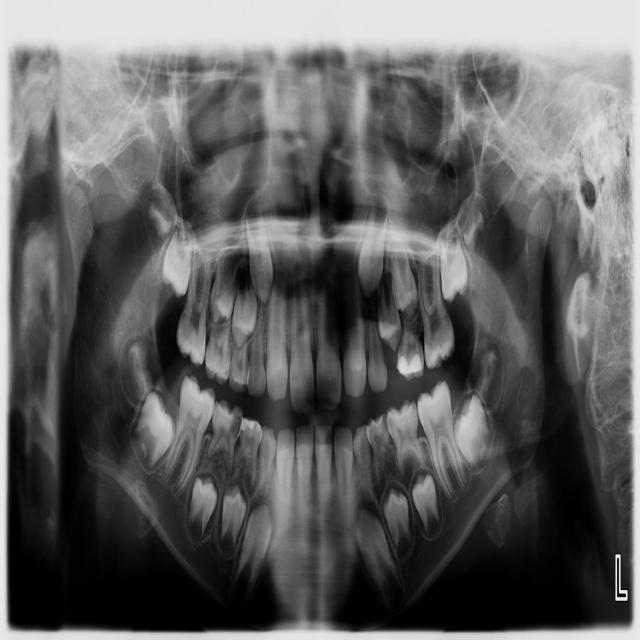mandibula: (67, 185, 552, 627)
